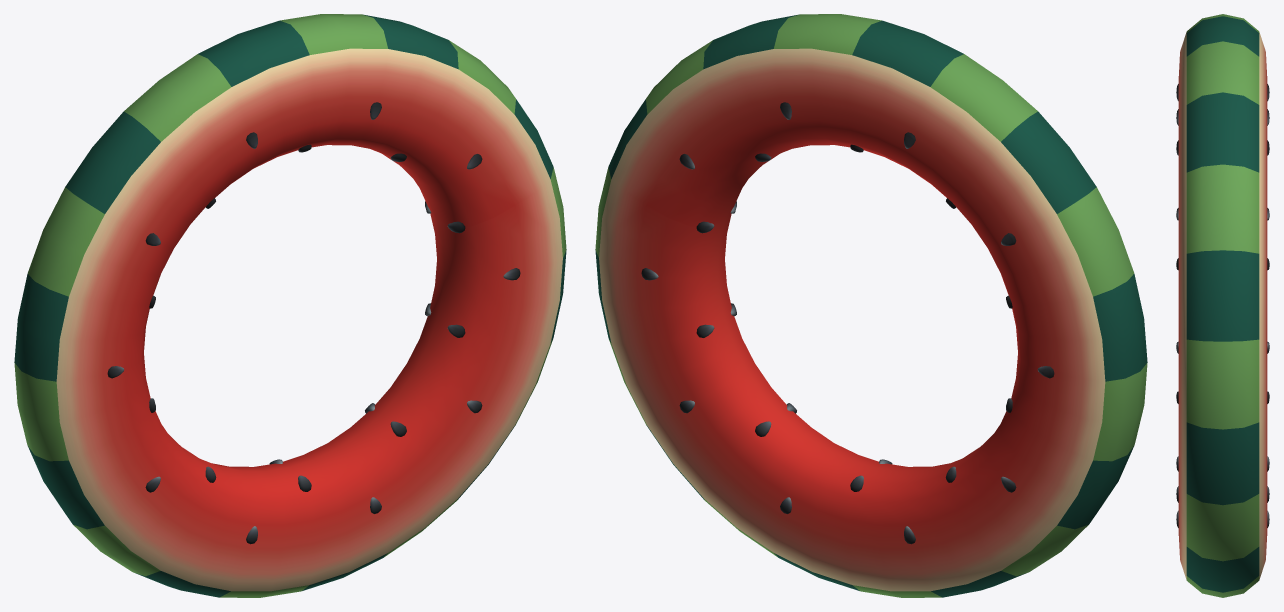
The model's file is watermelon.fbx.
3 renders of one model, left to right at view 1: azimuth 30°, elevation 25°; view 2: azimuth 150°, elevation 25°; view 3: azimuth 270°, elevation 25°, orthographic. The views are drawn at different scales.
Parts seen in each view (by area): view 1: Sphere.005_Color_Pallete_0.001; view 2: Sphere.005_Color_Pallete_0.001; view 3: Sphere.005_Color_Pallete_0.001.
Part boxes in pixels (<box>): Sphere.005_Color_Pallete_0.001: <box>14,14,566,597</box>; Sphere.005_Color_Pallete_0.001: <box>595,14,1147,597</box>; Sphere.005_Color_Pallete_0.001: <box>1176,14,1269,597</box>.
Size of the model in its own units: 977 by 977 by 156.
